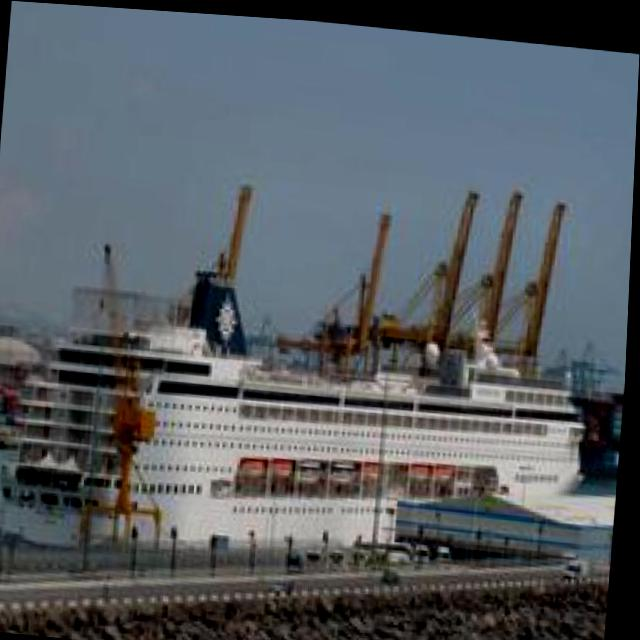ship2: (0, 262, 582, 554)
